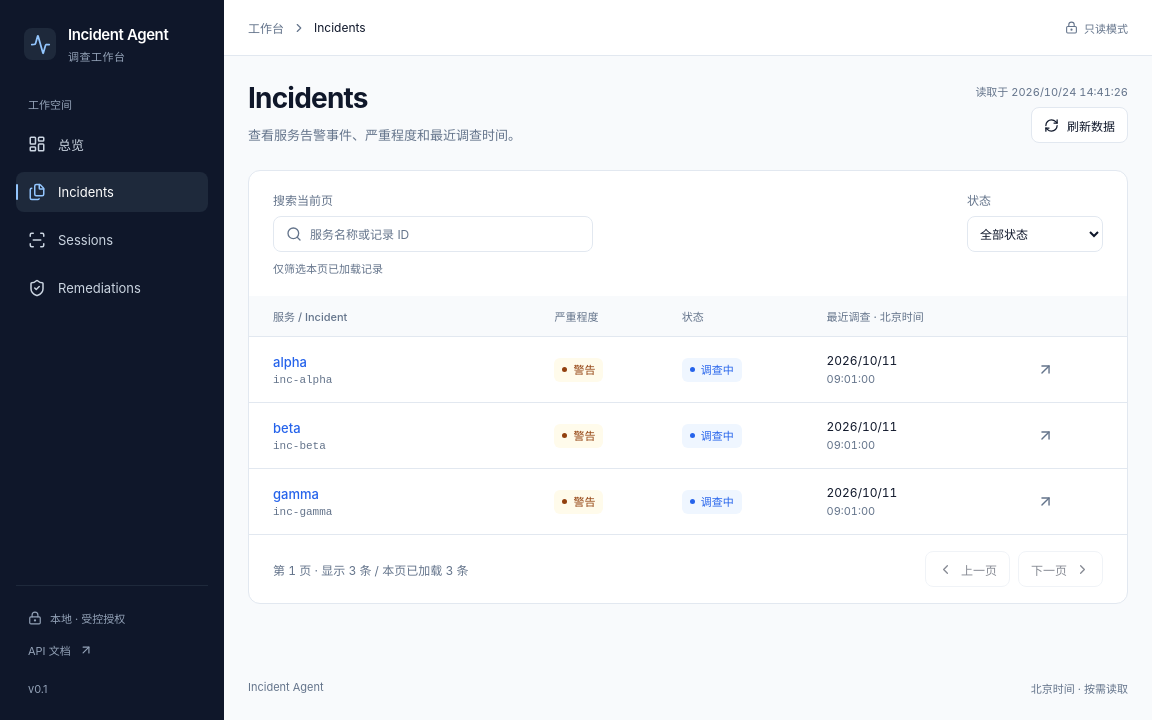
labels current-page search and counts visible versus loaded rows accurately on /incidents
Expected: the link "alpha" is shown, [273,354,307,370]
Expected: the text "搜索当前页" is shown, [273,192,593,252]
Type "alpha" into the field labelled "搜索当前页" at (445, 234), box [310,219,580,250]
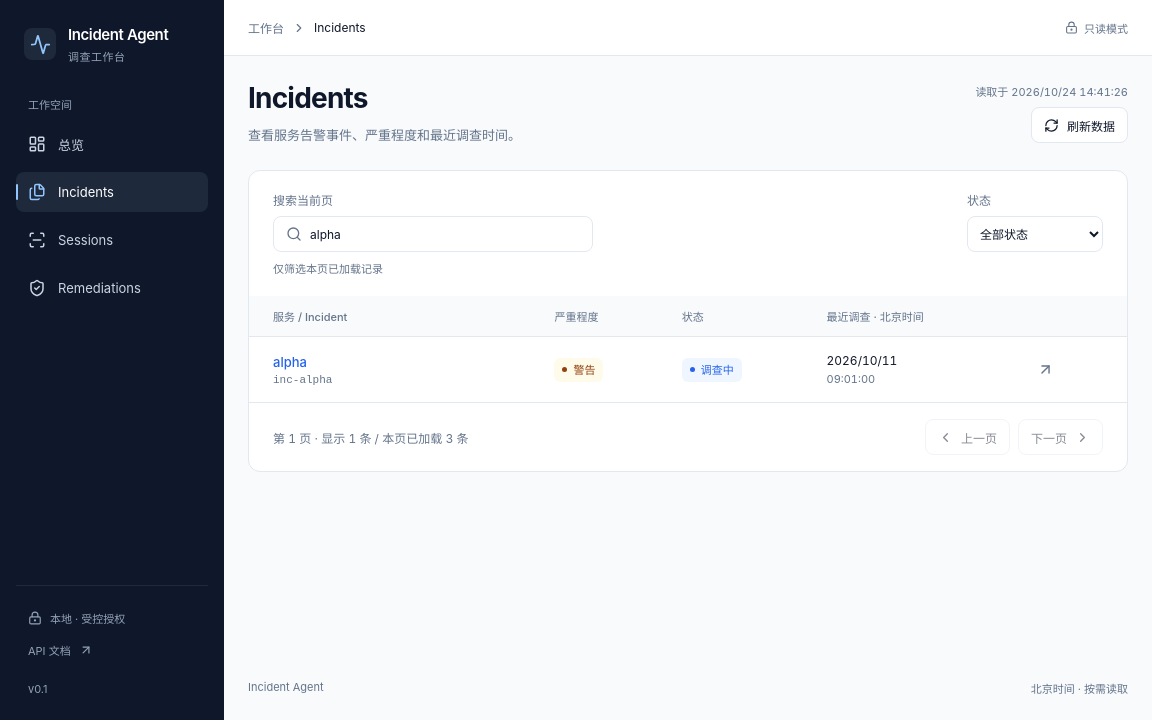
Expected: the message shows "显示 1 条 / 本页已加载 3 条", [321,431,468,446]
Expected: the link "beta" is gone
Replace the text in the field labelled "搜索当前页" with "missing" at (445, 234), box [310,219,580,250]
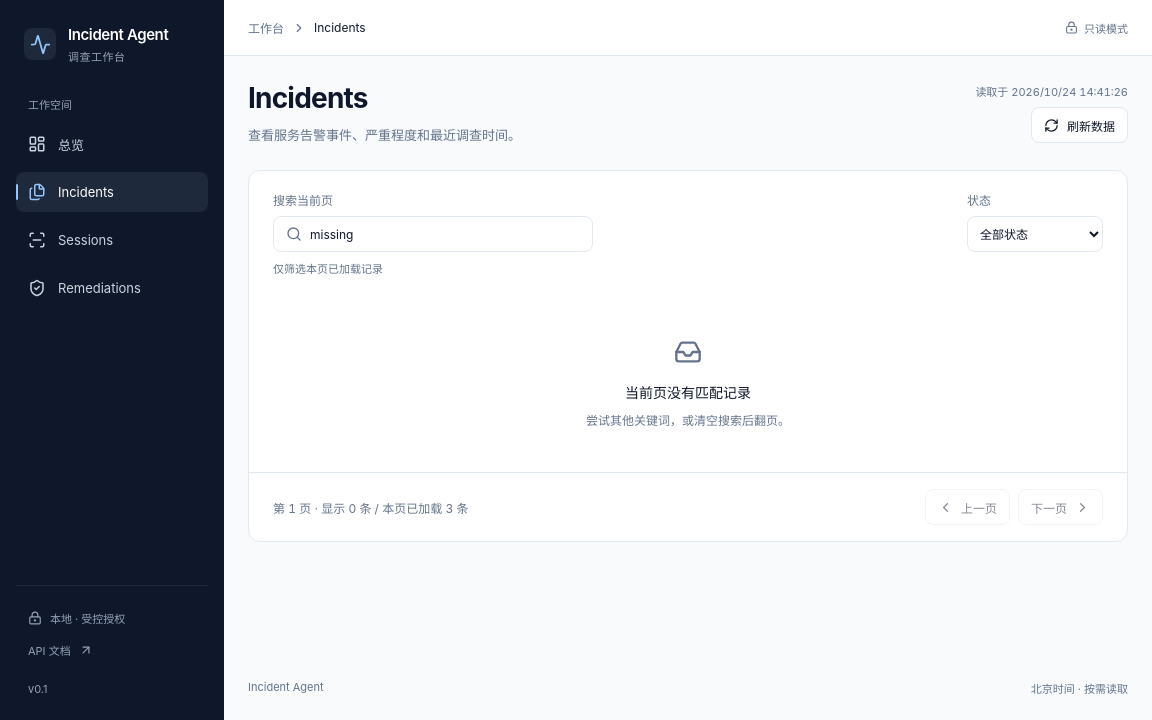
Expected: the message shows "显示 0 条 / 本页已加载 3 条", [321,501,468,516]
Expected: the heading "当前页没有匹配记录" is shown, [625,382,751,402]
Clear the field labelled "搜索当前页" at (445, 234), box [310,219,580,250]
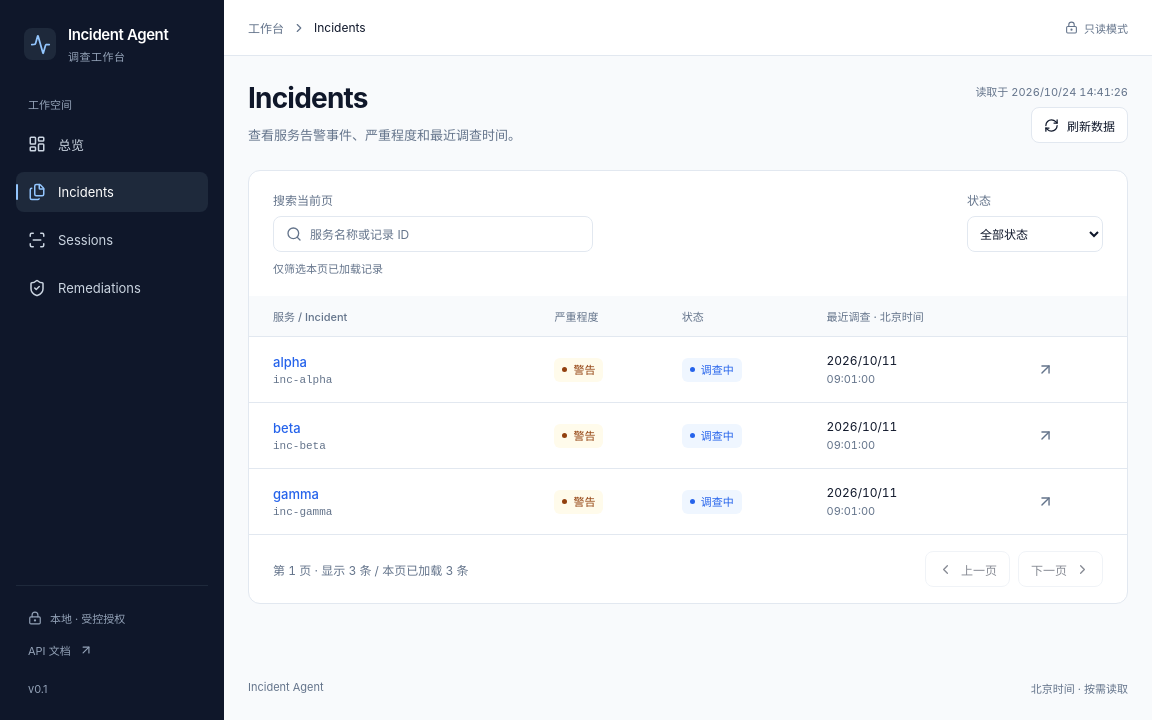
Expected: the message shows "显示 3 条 / 本页已加载 3 条", [321,563,468,578]
